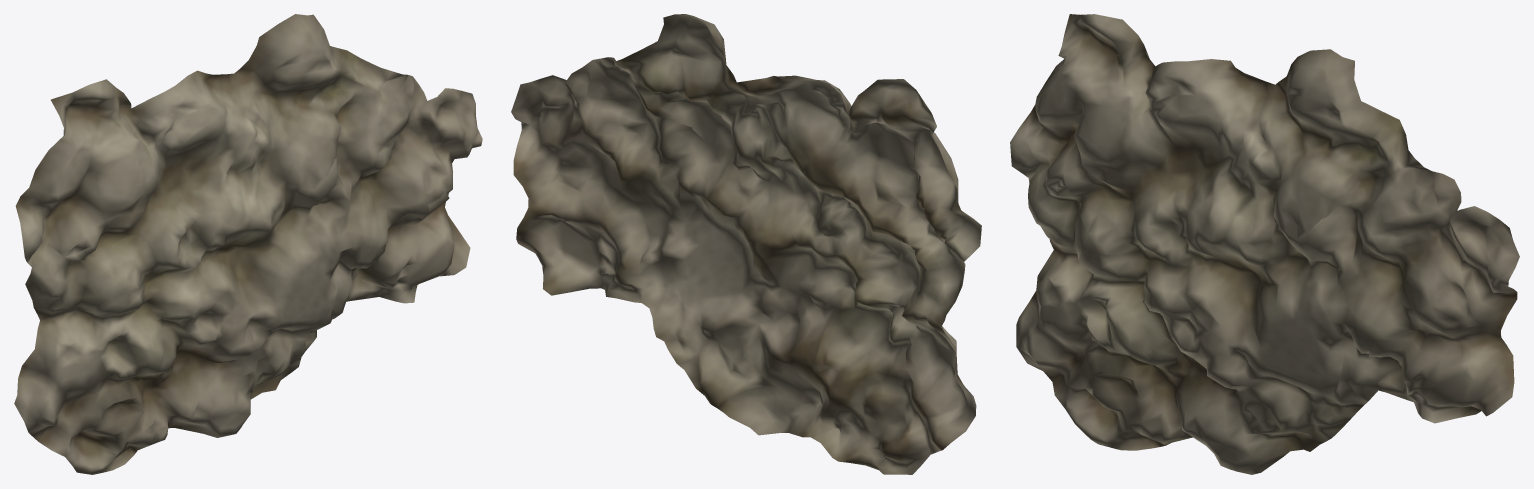
The model's file is Barnacle10.fbx.
3 renders of one model, left to right at view 1: azimuth 30°, elevation 25°; view 2: azimuth 150°, elevation 25°; view 3: azimuth 330°, elevation 25°, orthographic. The views are drawn at different scales.
Parts seen in each view (by area): view 1: Barnacle10; view 2: Barnacle10; view 3: Barnacle10.
Part boxes in pixels (x1=…): Barnacle10: x1=14, y1=14, x2=482, y2=474; Barnacle10: x1=511, y1=14, x2=981, y2=474; Barnacle10: x1=1010, y1=14, x2=1519, y2=474.
Bounding box in the file's own units: 80.2 × 68.14 × 10.25.
